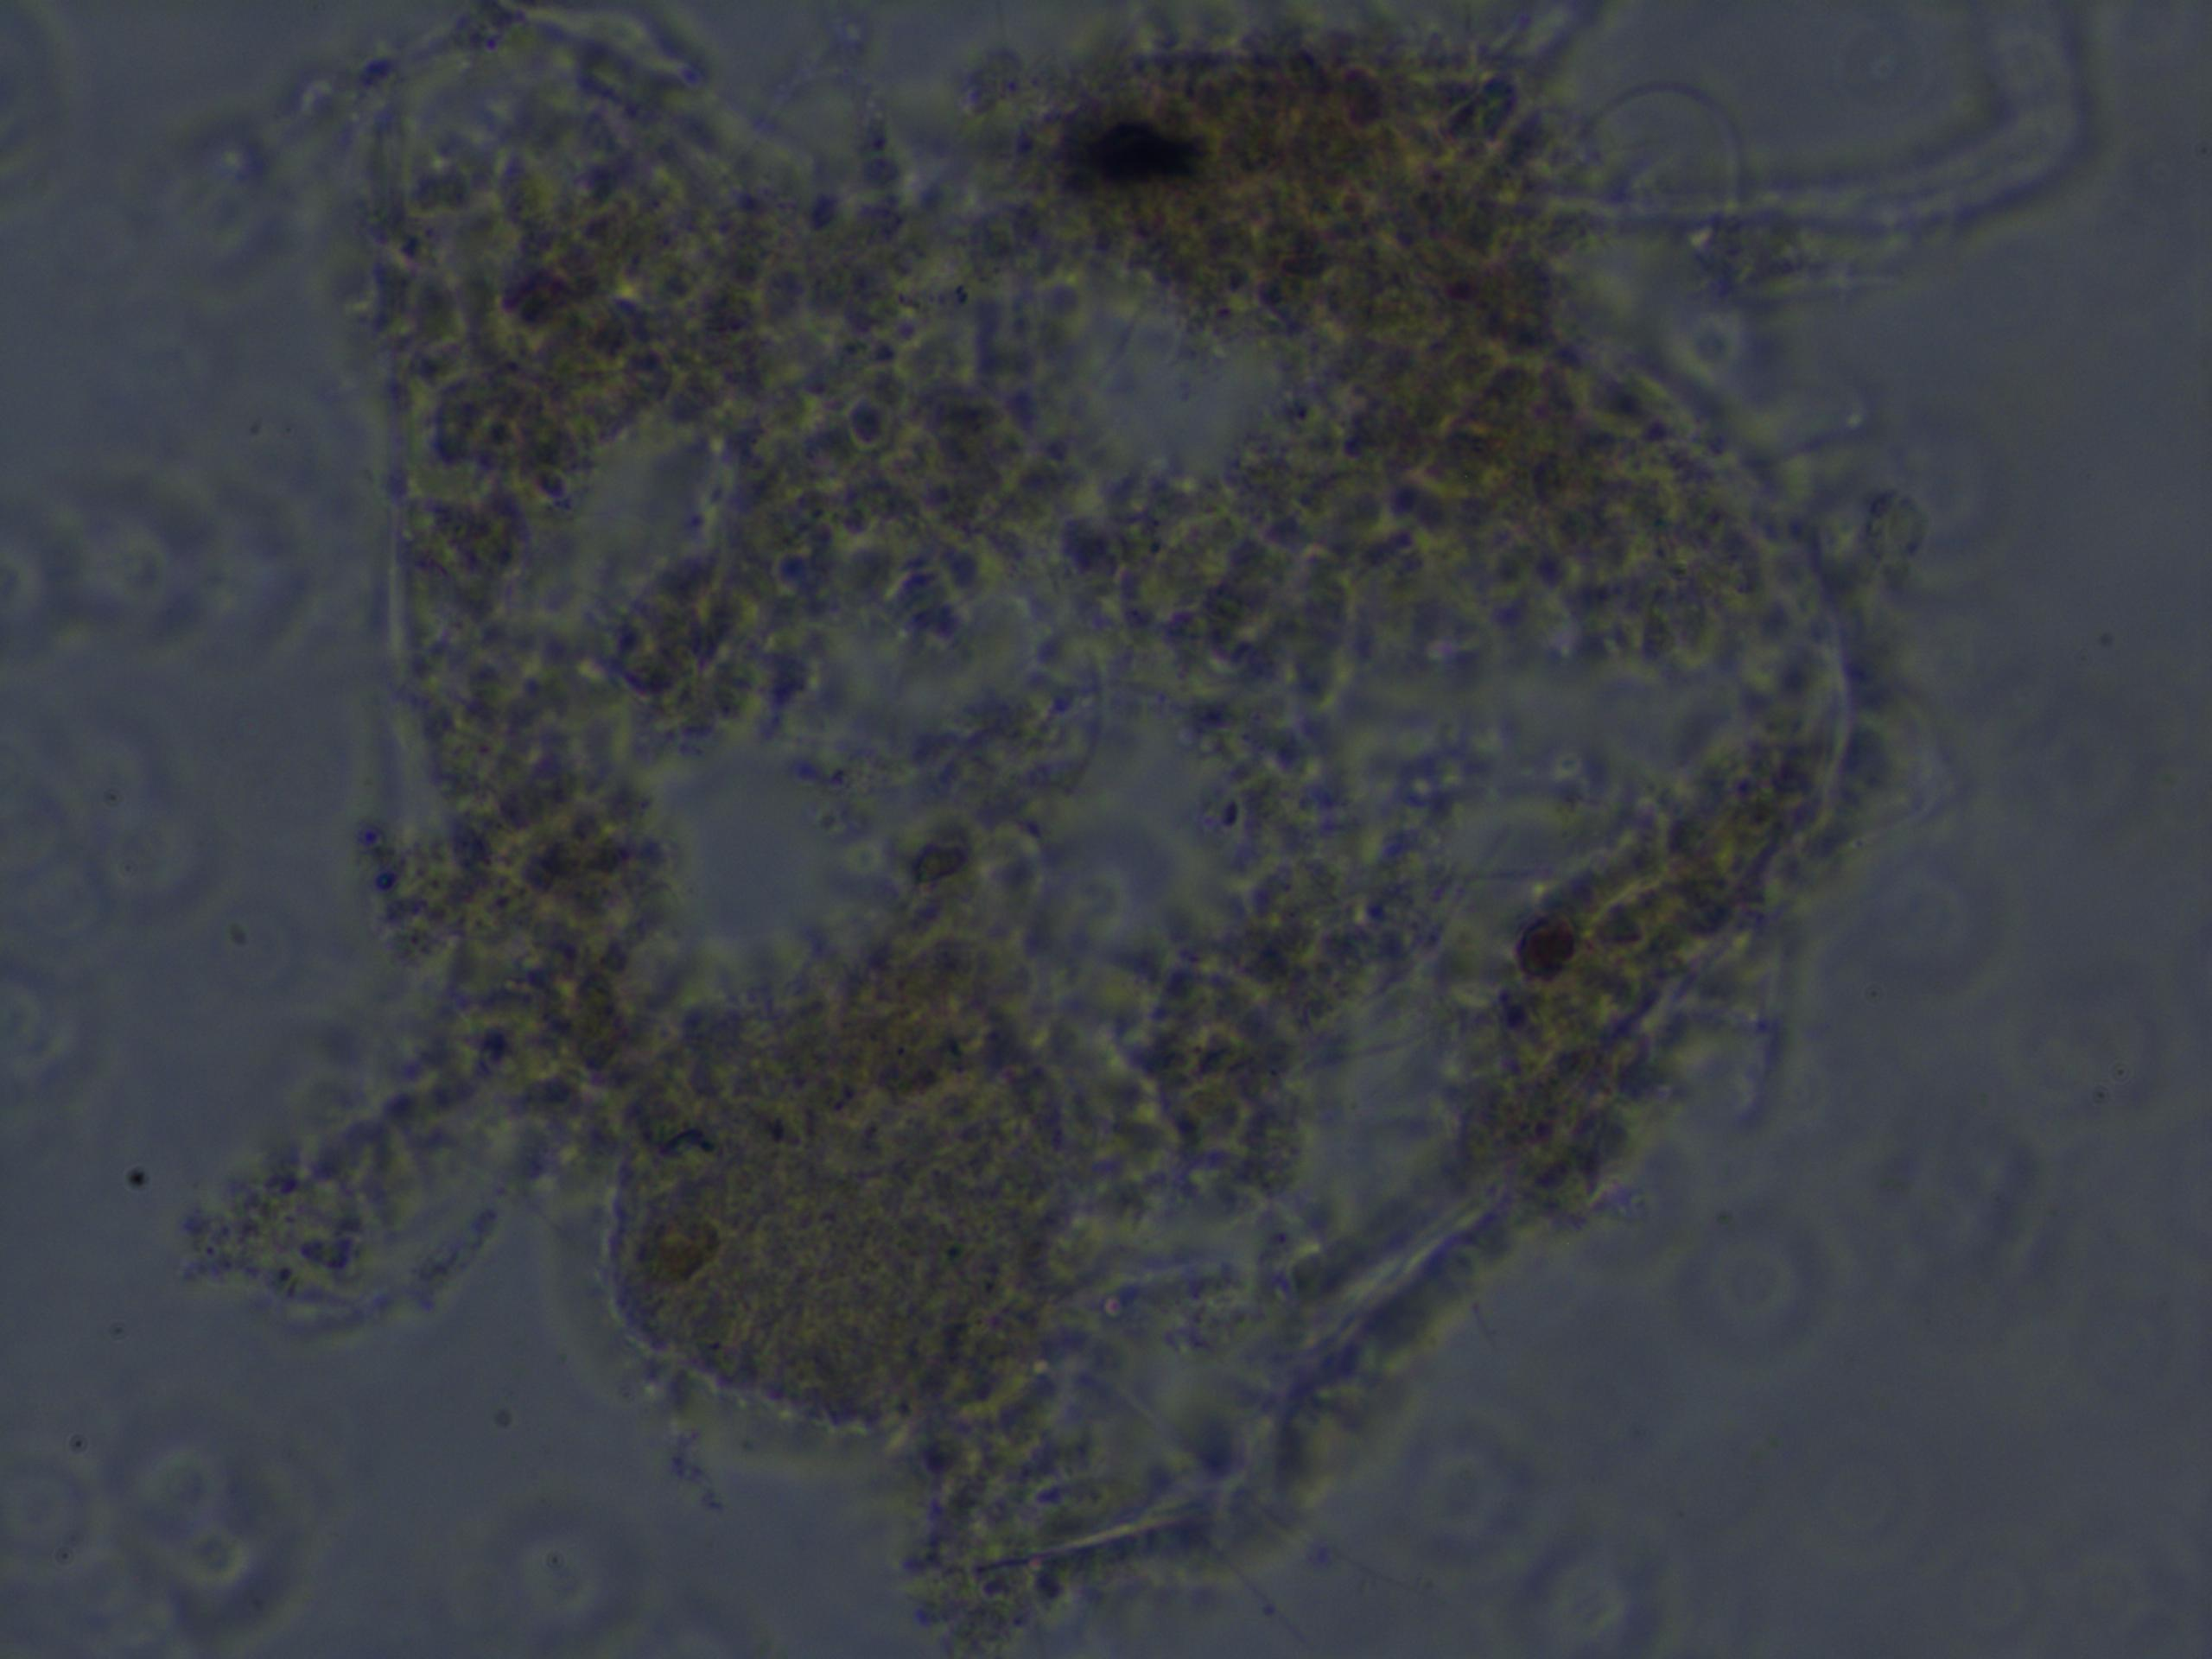open_floc: (331, 3, 1872, 1635)
